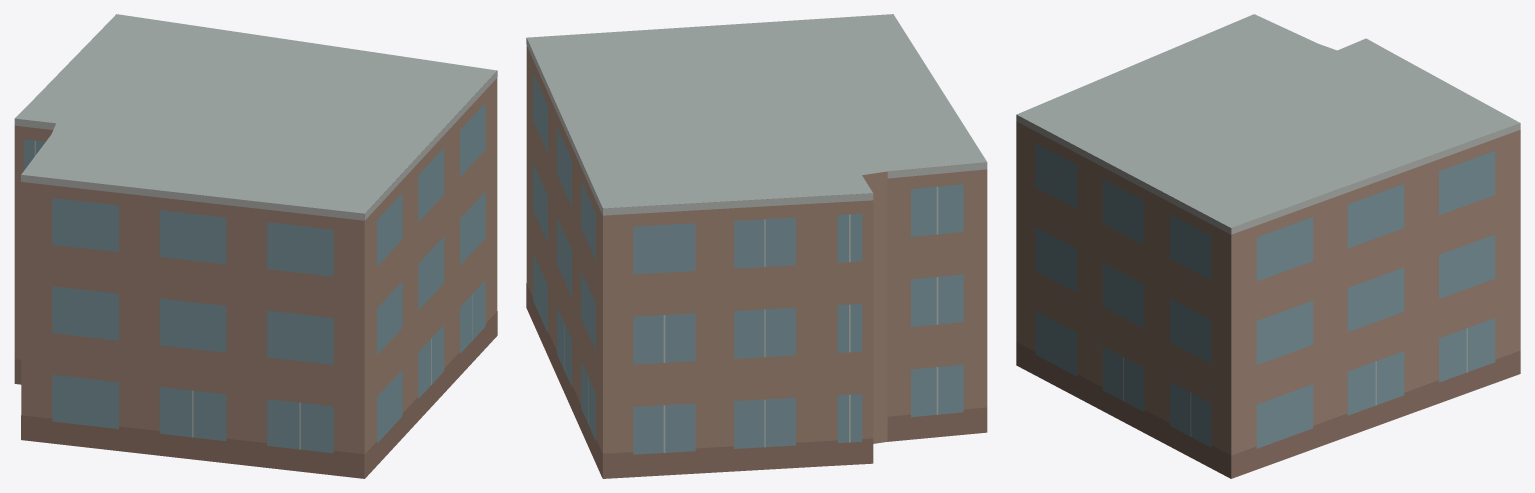
File: survey-upis-32503931.glb
3 renders of one model, left to right at view 1: azimuth 30°, elevation 25°; view 2: azimuth 150°, elevation 25°; view 3: azimuth 270°, elevation 25°, orthographic. The views are drawn at different scales.
Parts seen in each view (by area): view 1: survey-upis-32503931.tmp; view 2: survey-upis-32503931.tmp; view 3: survey-upis-32503931.tmp.
Part boxes in pixels (box(x1,y1,x2,y2)): survey-upis-32503931.tmp: box(14, 14, 497, 478); survey-upis-32503931.tmp: box(526, 14, 987, 478); survey-upis-32503931.tmp: box(1016, 14, 1520, 478).
Bounding box in the file's own units: 16.76 × 9.15 × 16.68.
